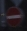No entry: (5, 6, 22, 26)
